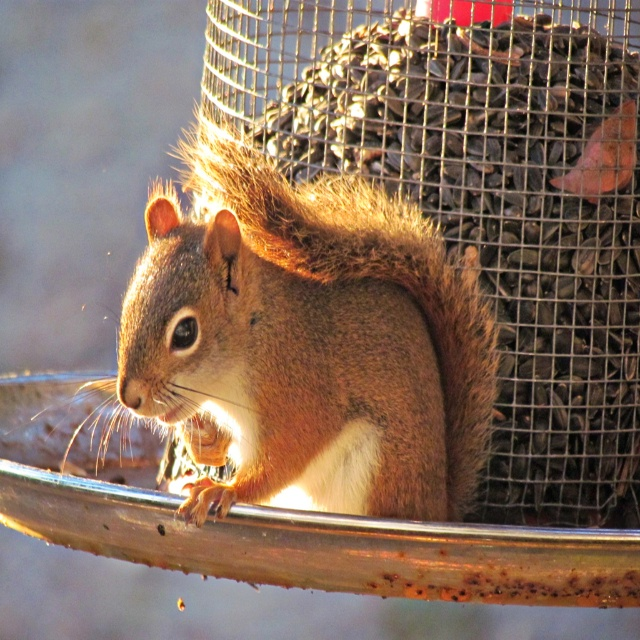Squirrel: (32, 102, 500, 528)
